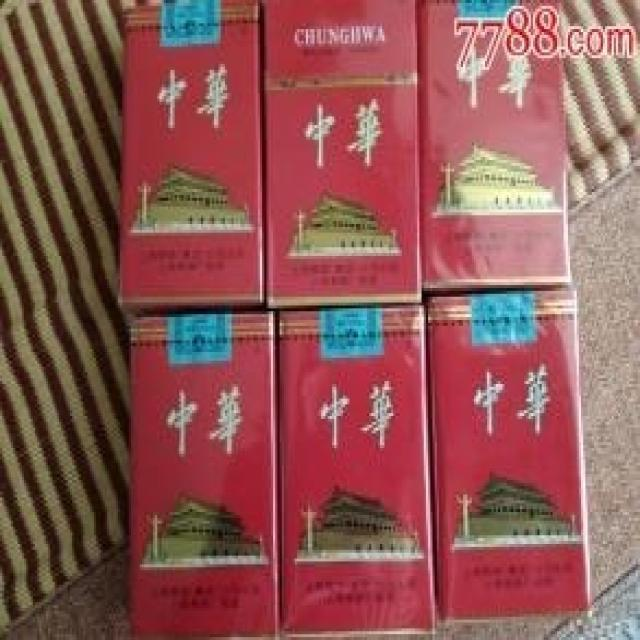box: (424, 288, 592, 620), (277, 303, 435, 637), (129, 311, 280, 637), (262, 0, 422, 305), (417, 0, 570, 294), (120, 0, 262, 305)
